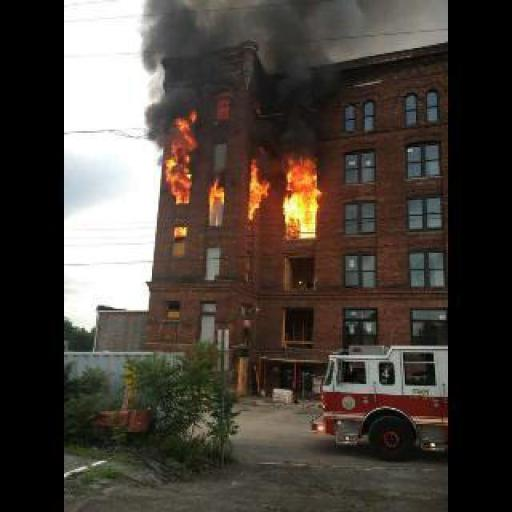smoke: (123, 2, 379, 138), (157, 117, 333, 240)
